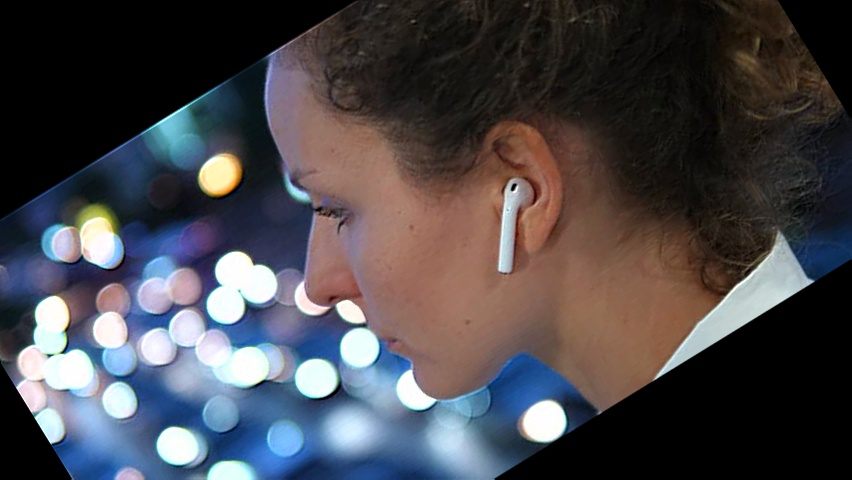earphone: (432, 107, 596, 279)
